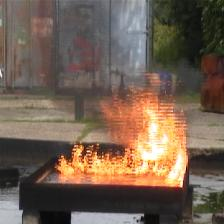fire: (55, 73, 189, 187)
